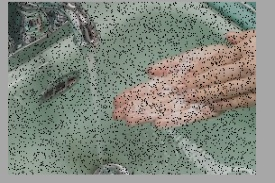washing hand: (22, 10, 236, 162)
